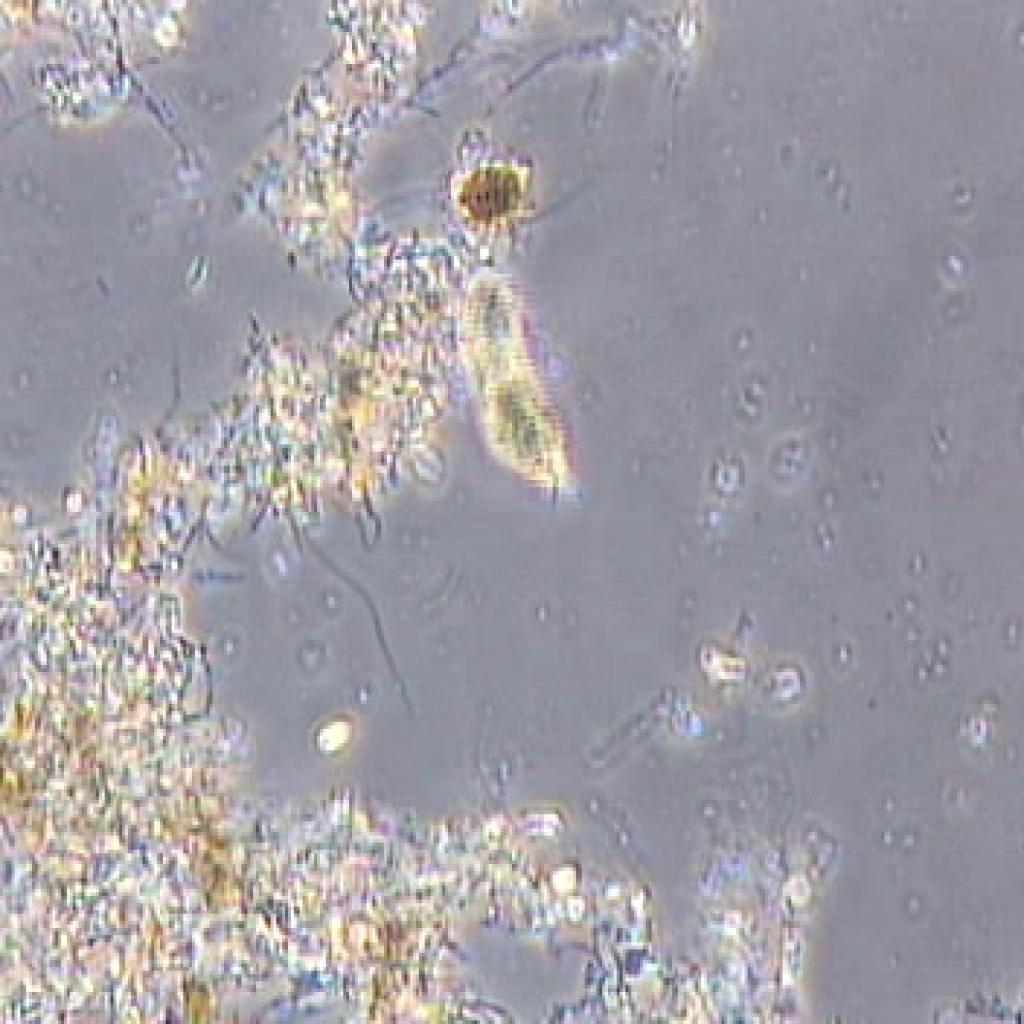Chaetonotus: (449, 260, 601, 530)
